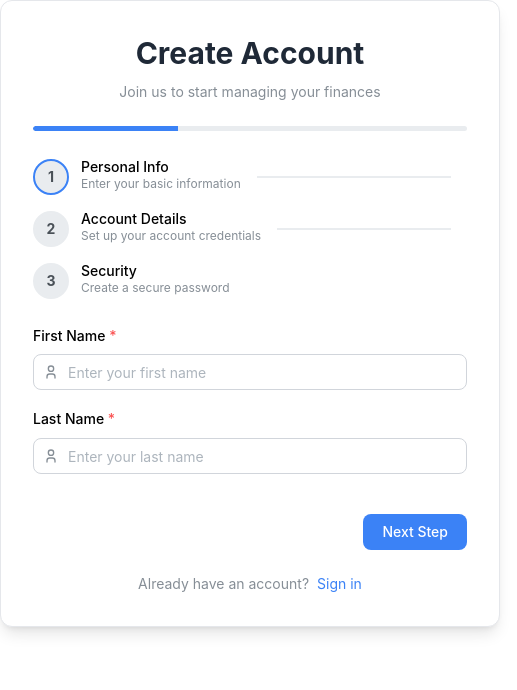
Test: RegistrationForm › should validate first step before proceeding
Click the button "Next Step" at (415, 532), box [363,514,467,550]
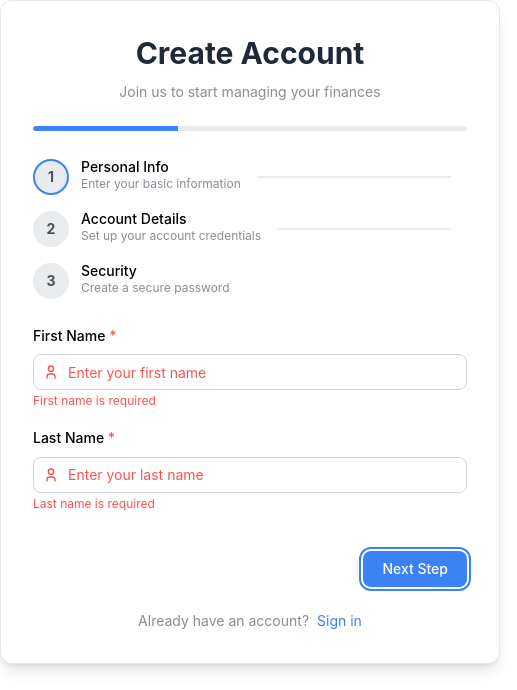
expect the field labelled "First Name *" is shown: met, box [33,354,467,390]
expect the text "First name is required" is shown: met, box [33,394,156,408]
expect the text "Last name is required" is shown: met, box [33,496,155,511]
